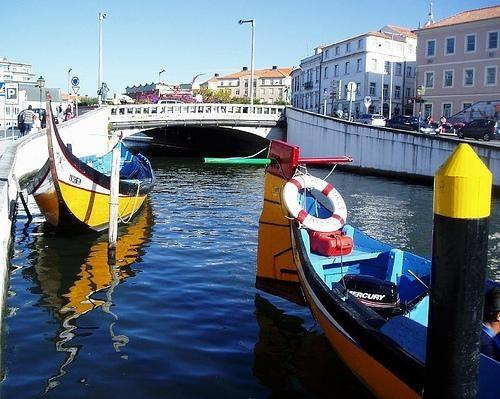car: (457, 118, 500, 142), (17, 108, 60, 132), (386, 115, 428, 131), (354, 114, 386, 126), (156, 100, 185, 104)
